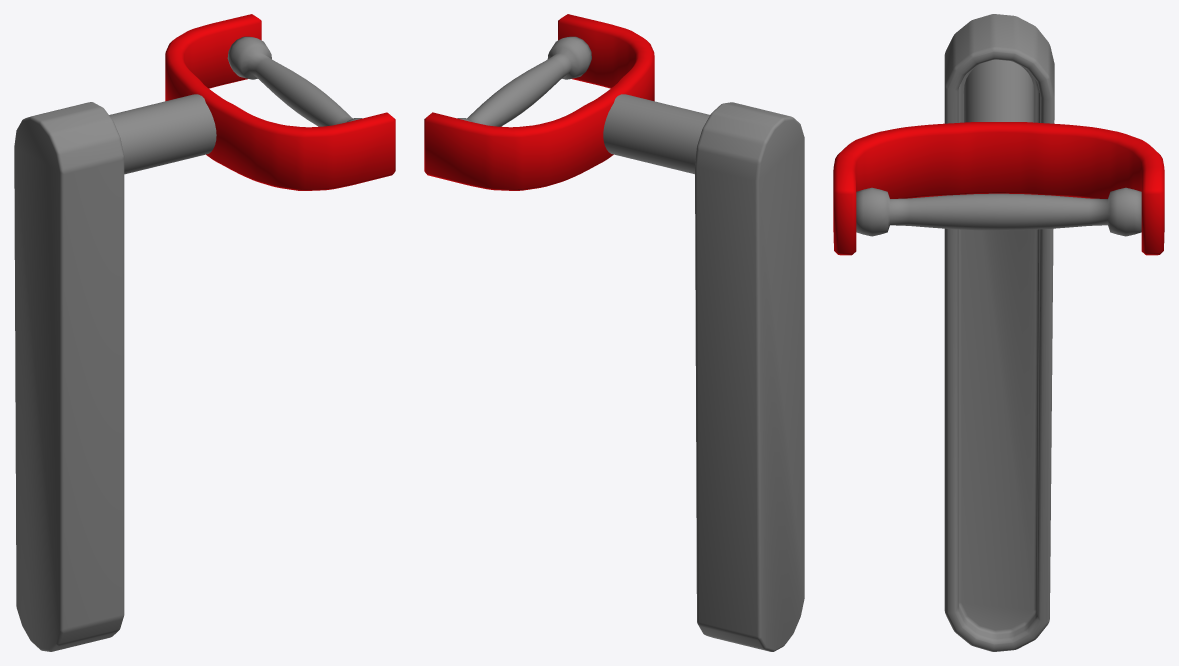
Rendered from Lever.fbx.
The picture shows the model from 3 angles, left to right: view 1: azimuth 30°, elevation 25°; view 2: azimuth 150°, elevation 25°; view 3: azimuth 270°, elevation 25°; orthographic projection. The views are drawn at different scales.
Visible parts, largest first — view 1: LeverRail, Lever; view 2: LeverRail, Lever; view 3: LeverRail, Lever.
Boxes of the visible parts, box(x1,y1,x2,y2) form: LeverRail: box(14, 102, 124, 651); Lever: box(109, 14, 395, 190); LeverRail: box(695, 102, 804, 651); Lever: box(424, 14, 709, 190); LeverRail: box(944, 14, 1054, 651); Lever: box(833, 59, 1164, 255).
Size of the model in its own units: 45.26 by 79.24 by 39.33.
